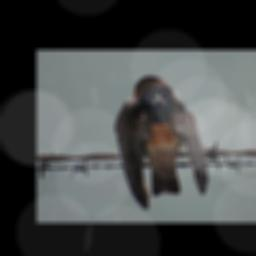Swallow: (114, 75, 210, 211)
